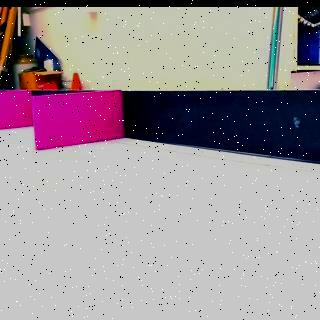xparking: (30, 90, 124, 144), (0, 90, 30, 130)
